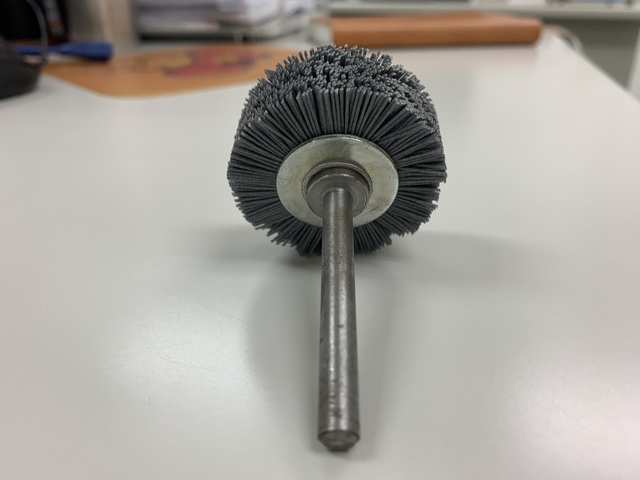Wheel Brush: (229, 47, 447, 444), (213, 36, 452, 348)
